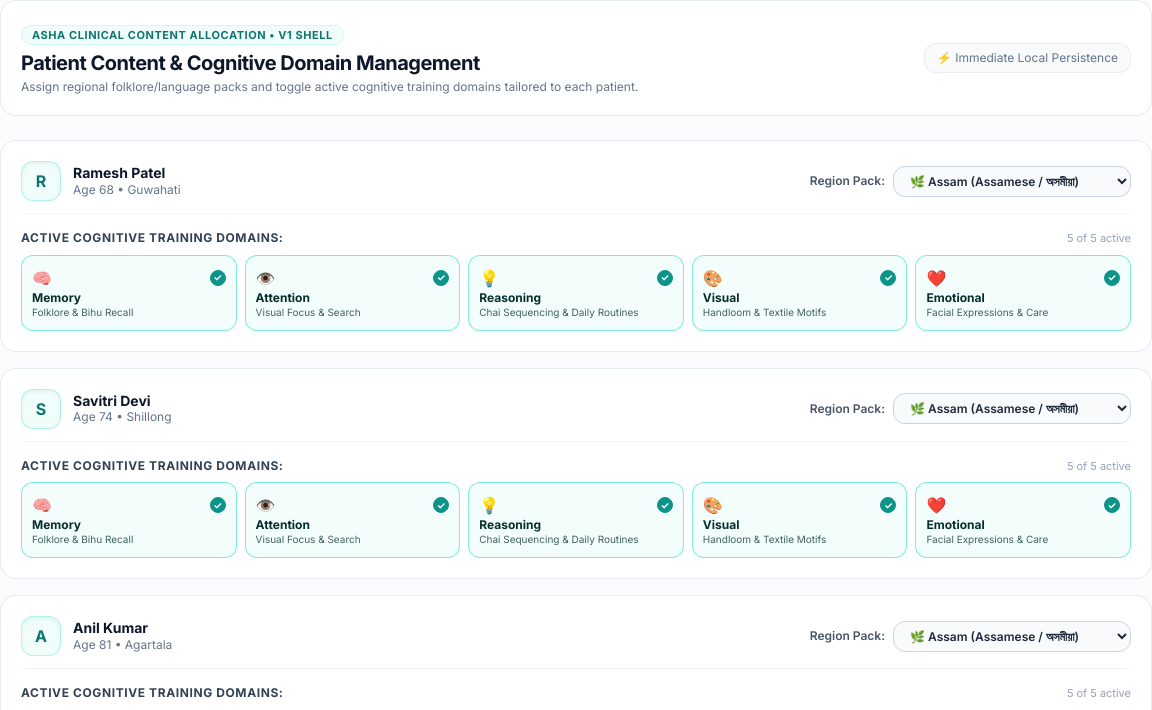
Test: V1 ASHA Content & Cognitive Domain Management Suite › 2. Changing region pack immediately updates patient language code and persists to localStorage
// Change to Bodoland (brx)
Select "🌾 Bodoland (Bodo / बर’)" in the dropdown named "Region Pack for Ramesh Patel": (1012, 181) [893, 166, 1131, 196]
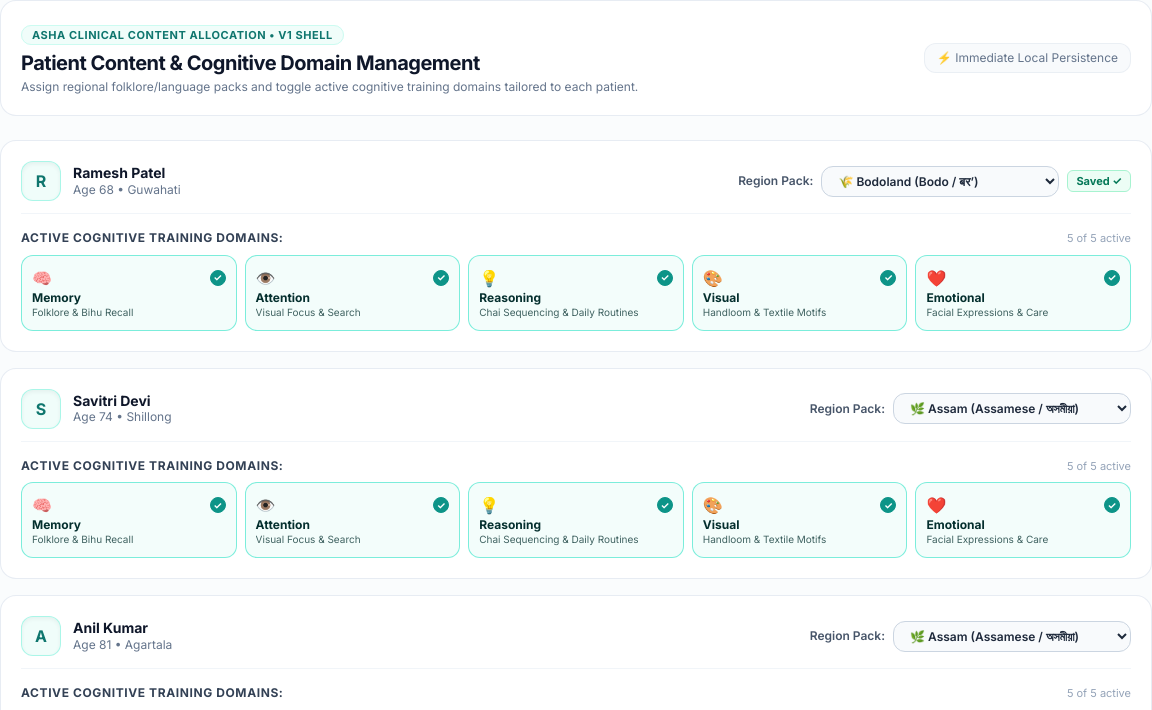
Check: the text "Saved ✓" is shown, box [1067, 170, 1131, 192]
